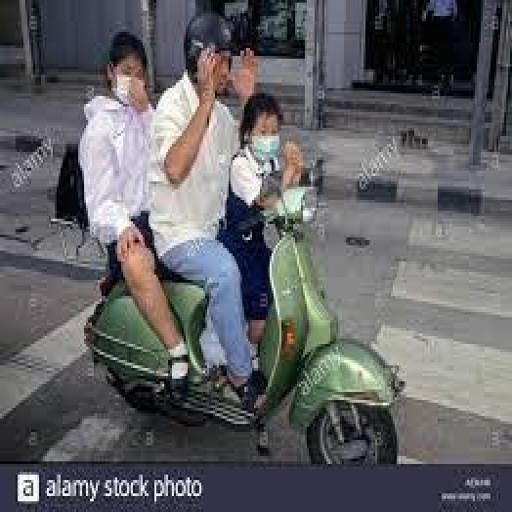helmet: (179, 23, 255, 129)
triple riding: (72, 18, 422, 464)
